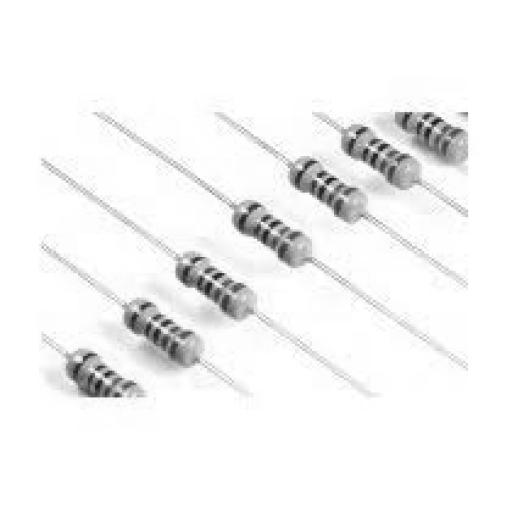RESISTOR: (157, 160, 393, 279), (192, 184, 346, 302), (17, 302, 128, 450), (263, 130, 438, 220), (98, 260, 277, 344), (108, 280, 186, 408)
